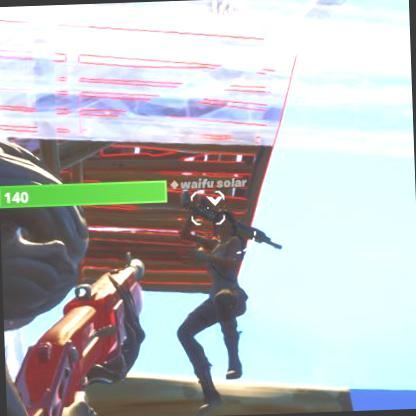person: (169, 202, 289, 416)
